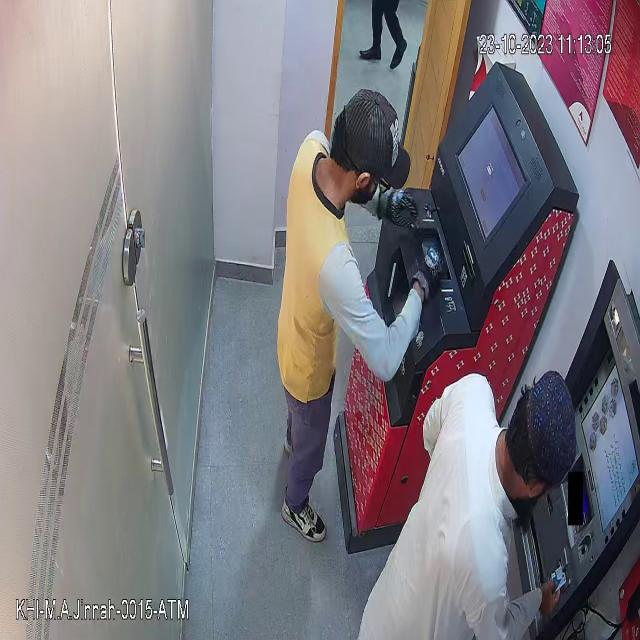atm-card: (544, 557, 572, 600)
